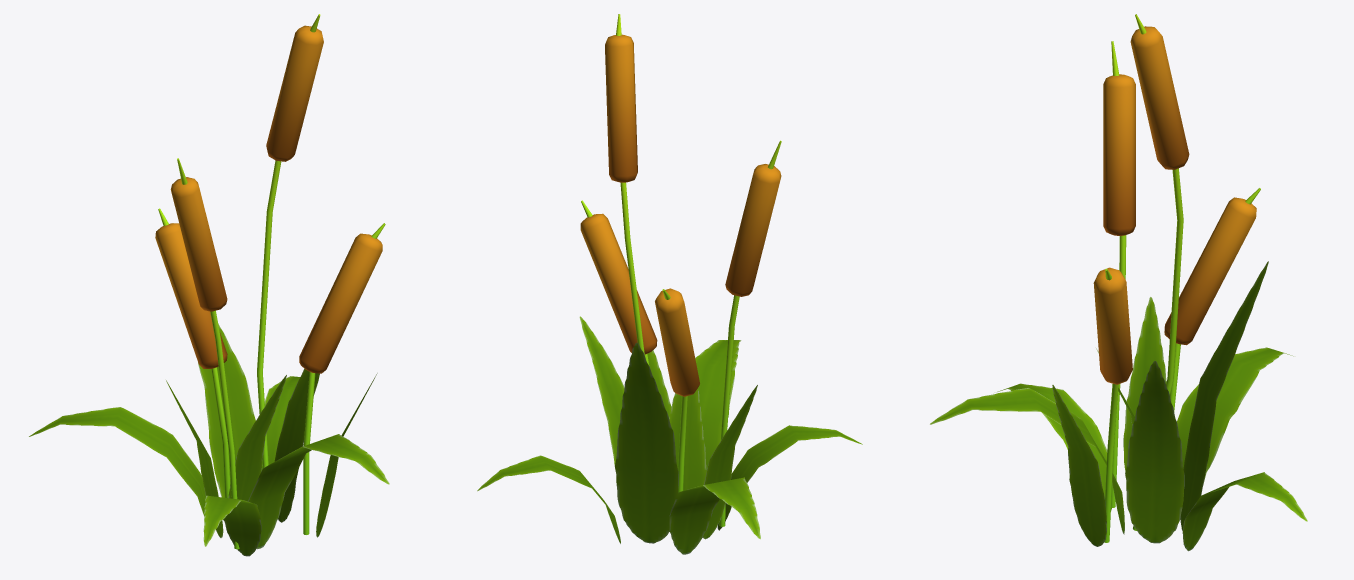
File: plant3.fbx
3 renders of one model, left to right at view 1: azimuth 30°, elevation 25°; view 2: azimuth 150°, elevation 25°; view 3: azimuth 270°, elevation 25°, orthographic. The views are drawn at different scales.
Parts seen in each view (by area): view 1: plant3; view 2: plant3; view 3: plant3.
Part boxes in pixels (bbox=[...]): plant3: bbox=[29, 14, 389, 556]; plant3: bbox=[477, 14, 862, 554]; plant3: bbox=[930, 14, 1307, 551].
Bounding box in the file's own units: 179 × 265 × 185.
